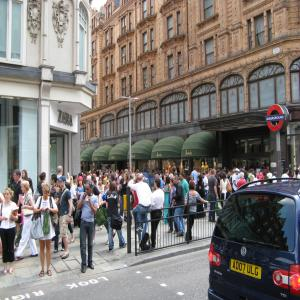Vehicle-registration-plate: (229, 258, 263, 279)
